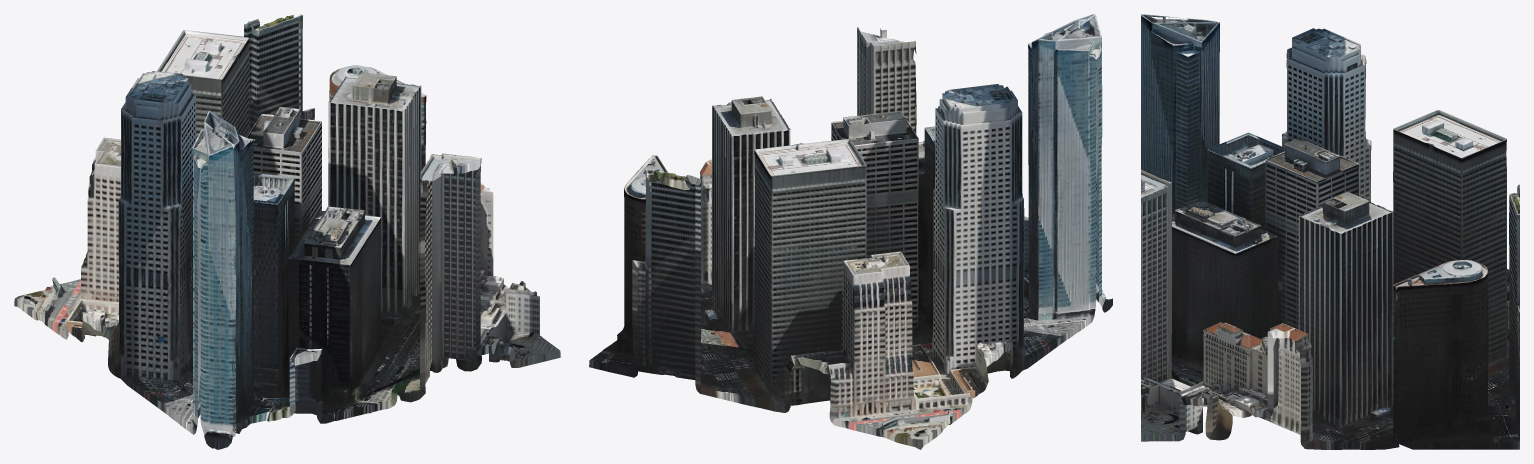
File: z17-20972-50654-h0-yup-uvflip-v3-world.glb
The picture shows the model from 3 angles, left to right: view 1: azimuth 30°, elevation 25°; view 2: azimuth 150°, elevation 25°; view 3: azimuth 270°, elevation 25°; orthographic projection. The views are drawn at different scales.
Size of the model in its own units: 242 by 203 by 243.
Materials: 1 (1 with a texture image).
